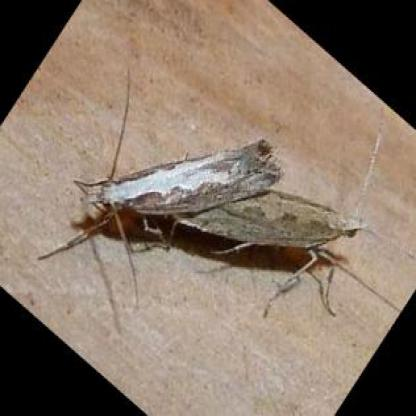plutella: (29, 33, 292, 344)
